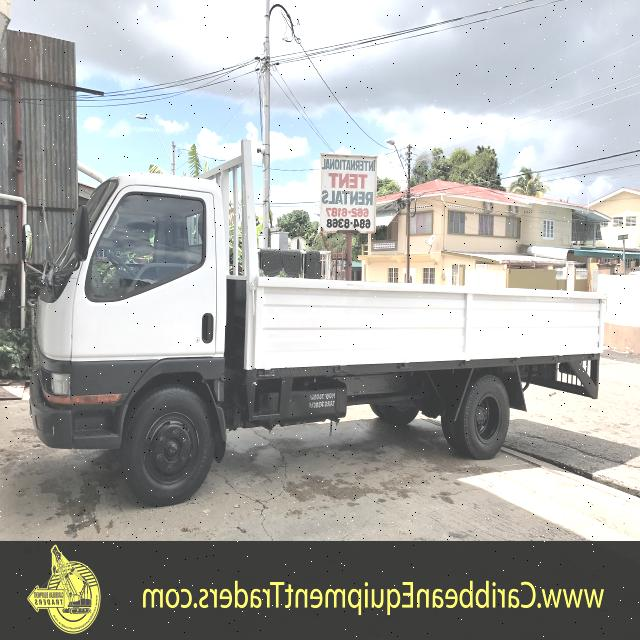truck: (32, 171, 604, 499)
